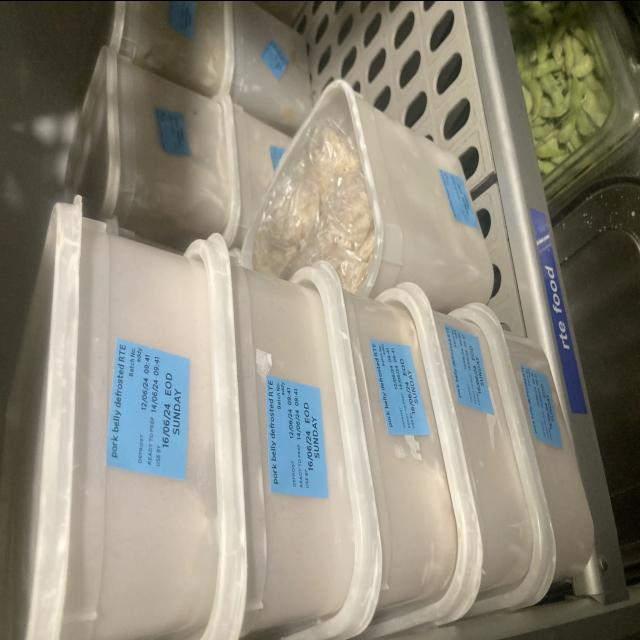product-labels: (105, 337, 191, 479), (262, 369, 329, 501), (367, 329, 430, 442), (442, 315, 493, 418), (519, 356, 562, 452), (437, 160, 479, 234), (155, 102, 191, 159), (255, 36, 295, 79)
